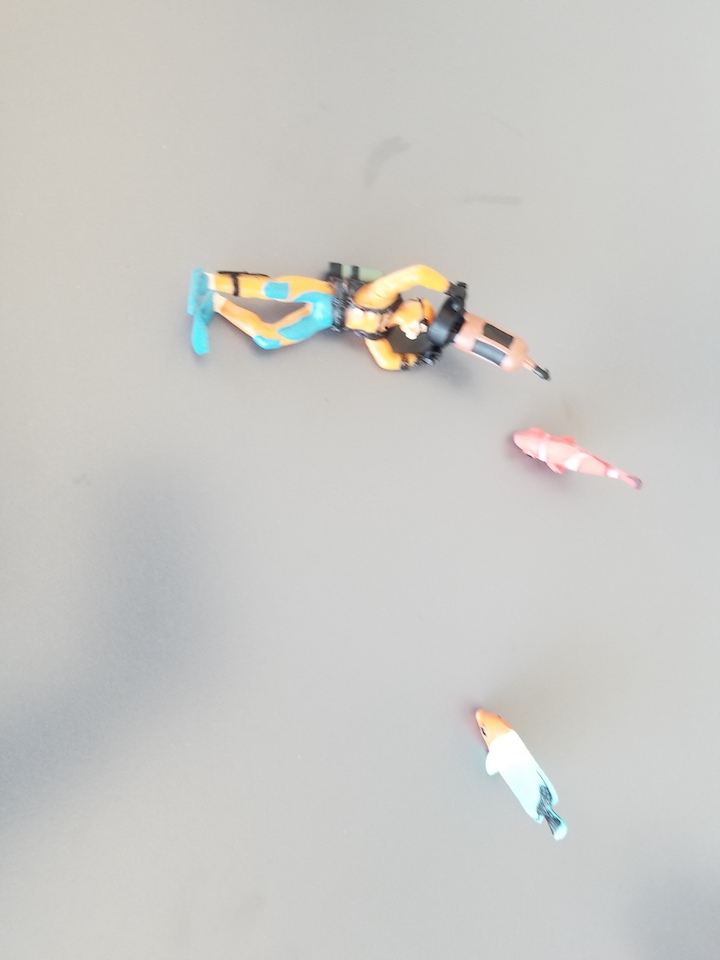diver: (180, 257, 558, 391)
fish: (467, 704, 570, 844), (507, 426, 652, 500)
